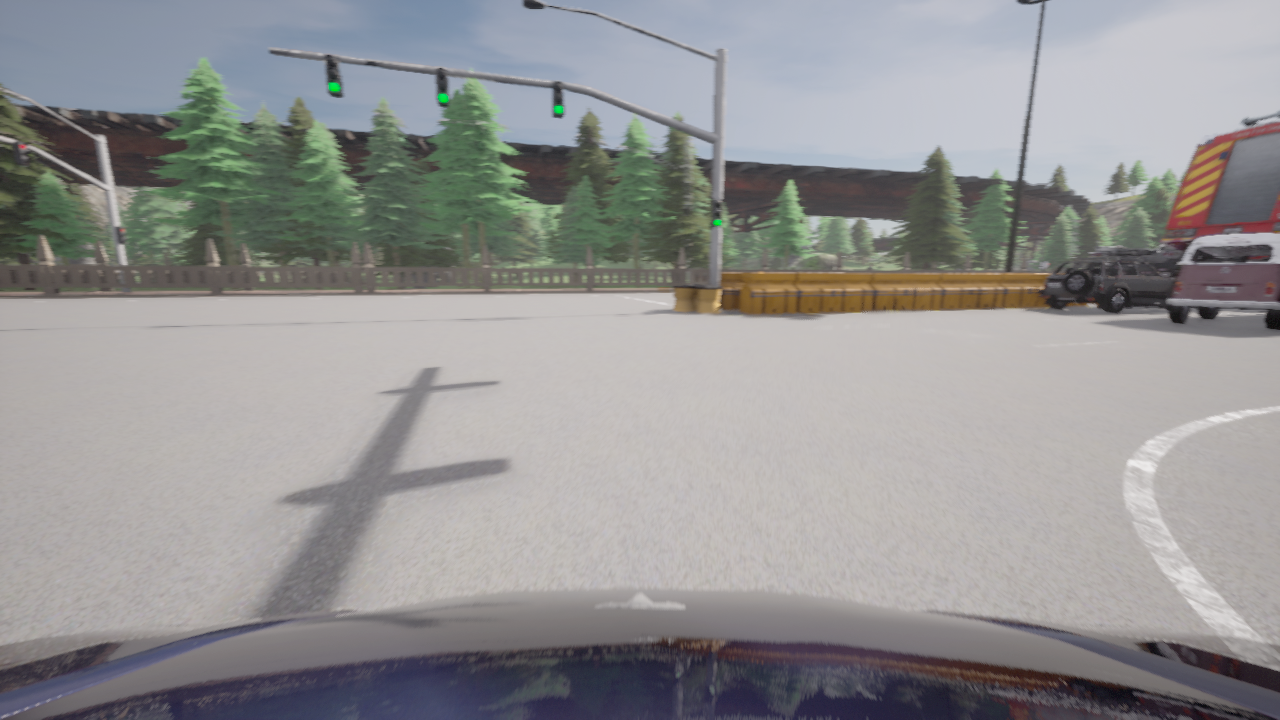cyclist: (0, 588, 1279, 719), (1160, 111, 1279, 252), (1166, 233, 1279, 330), (1039, 257, 1173, 313), (1080, 246, 1184, 278)
pedestrian: (867, 265, 873, 269)
